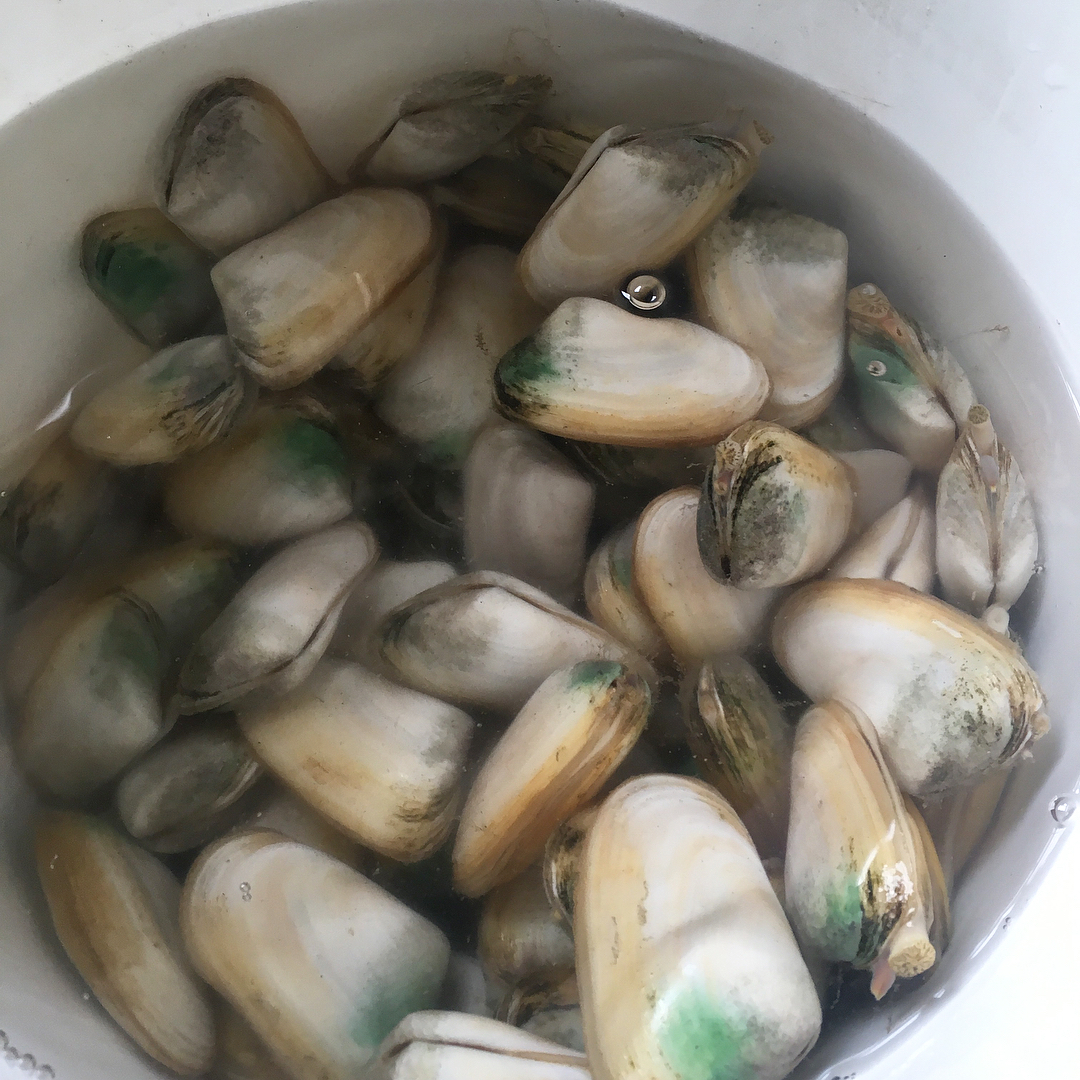tuatua: (571, 767, 831, 1080), (767, 570, 1042, 818), (174, 827, 446, 1074), (774, 692, 967, 1001), (436, 656, 656, 905), (198, 178, 443, 391), (32, 808, 222, 1080), (233, 641, 457, 860), (522, 113, 762, 312), (490, 291, 773, 444), (155, 513, 380, 703), (686, 191, 859, 436), (364, 567, 646, 706), (22, 584, 173, 809), (147, 72, 333, 253), (462, 416, 598, 601), (66, 326, 243, 468), (693, 423, 850, 582), (343, 71, 555, 175)
